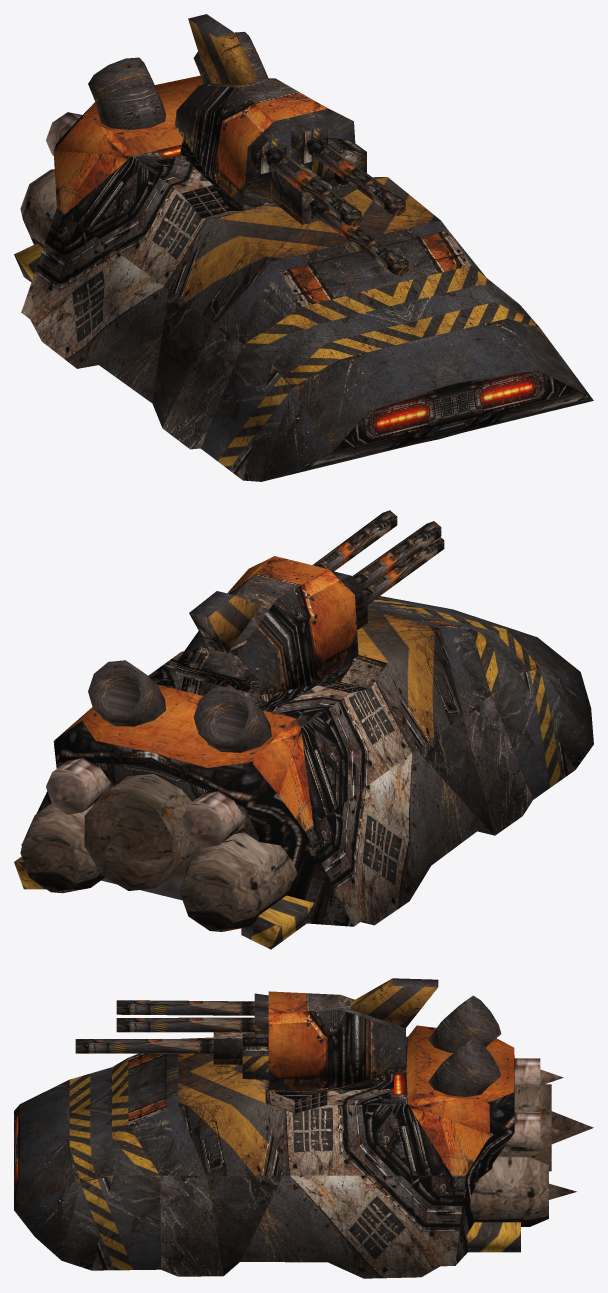
Rendered from Scout.fbx.
3 renders of one model, top to bottom at view 1: azimuth 30°, elevation 25°; view 2: azimuth 150°, elevation 25°; view 3: azimuth 270°, elevation 25°, orthographic. The views are drawn at different scales.
Parts seen in each view (by area): view 1: Chasis, Gun; view 2: Chasis, Gun; view 3: Chasis, Gun.
Boxes of the visible parts, left/top/right/bottom form: Chasis: left=14, top=31, right=593, bottom=481; Gun: left=175, top=14, right=408, bottom=276; Chasis: left=14, top=596, right=593, bottom=949; Gun: left=176, top=510, right=444, bottom=712; Chasis: left=14, top=995, right=593, bottom=1278; Gun: left=75, top=978, right=438, bottom=1100.
Size of the model in its own units: 259 by 209 by 478.
1 material, 1 textured.
